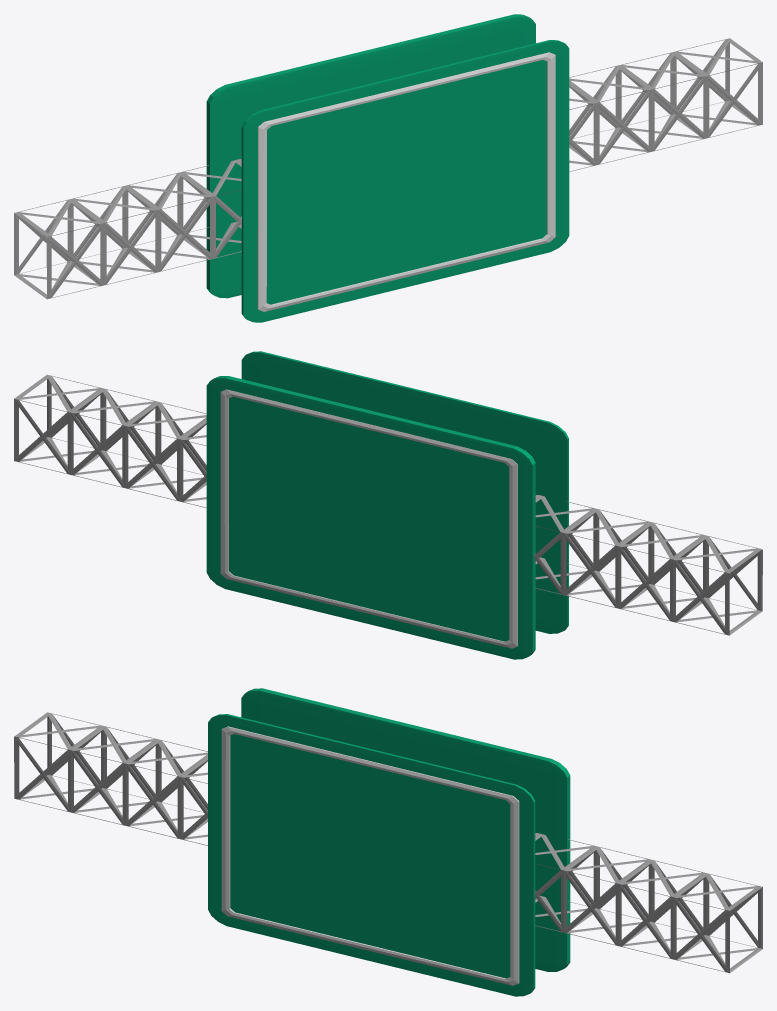
The model's file is newedit.gltf.
3 renders of one model, top to bottom at view 1: azimuth 30°, elevation 25°; view 2: azimuth 150°, elevation 25°; view 3: azimuth 330°, elevation 25°, orthographic.
Parts seen in each view (by area): view 1: Cube.004, Cube, Cube.003, Torus.001; view 2: Cube.003, Cube, Cube.004, Torus.000; view 3: Cube.004, Cube, Cube.003, Torus.001.
Part boxes in pixels (x1,y1,x2,y2): Cube.004: (241, 40, 569, 322); Cube: (14, 38, 762, 299); Cube.003: (206, 14, 535, 298); Torus.001: (257, 52, 555, 311); Cube.003: (206, 376, 535, 659); Cube: (14, 374, 762, 635); Cube.004: (241, 351, 568, 633); Torus.000: (220, 389, 517, 648); Cube.004: (208, 714, 535, 996); Cube: (14, 712, 762, 973); Cube.003: (241, 688, 570, 971); Torus.001: (221, 726, 519, 985).
Bounding box in the file's own units: 24.16 × 6.8 × 2.25.
